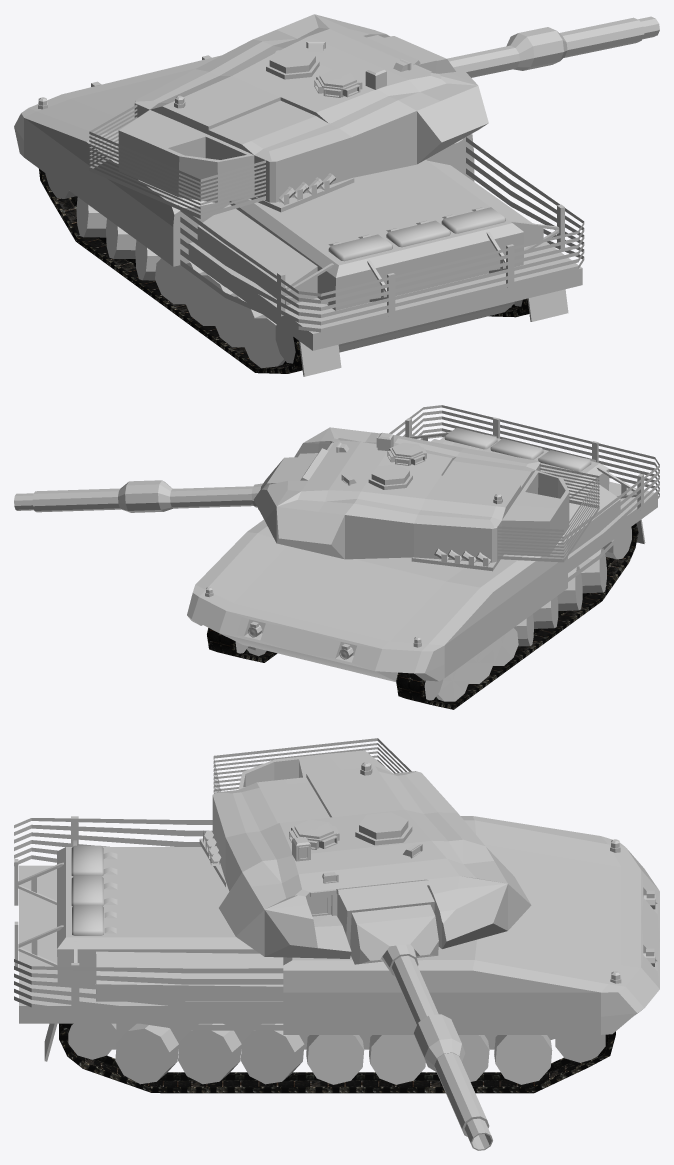
Rendered from revolution damaged.fbx.
The picture shows the model from 3 angles, top to bottom: view 1: azimuth 30°, elevation 25°; view 2: azimuth 150°, elevation 25°; view 3: azimuth 270°, elevation 25°; orthographic projection. The views are drawn at different scales.
Parts seen in each view (by area): view 1: polySurface645, polySurface483; view 2: polySurface645, polySurface483, polySurface417; view 3: polySurface645, polySurface417.
Part boxes in pixels (x1,y1,x2,y2): polySurface645: (14,14,659,376); polySurface483: (39,169,302,373); polySurface645: (14,405,659,701); polySurface483: (396,523,638,709); polySurface417: (207,628,277,662); polySurface645: (14,738,659,1150); polySurface417: (59,1023,615,1093).
Size of the model in its own units: 121 by 38.48 by 103.
